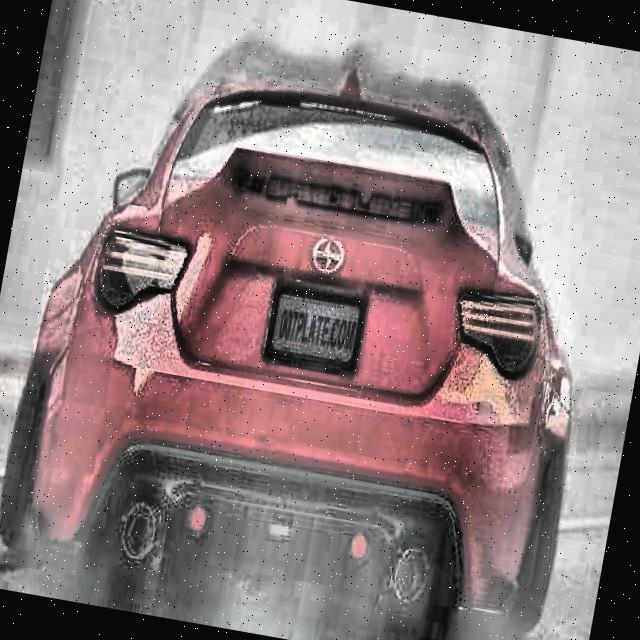license_plate: (261, 281, 369, 374)
